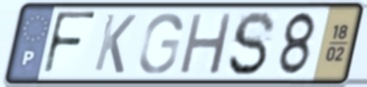8: (276, 8, 321, 79)
F: (40, 9, 100, 78)
G: (136, 11, 185, 76)
H: (176, 11, 236, 77)
K: (91, 12, 139, 77)
S: (225, 8, 279, 78)
